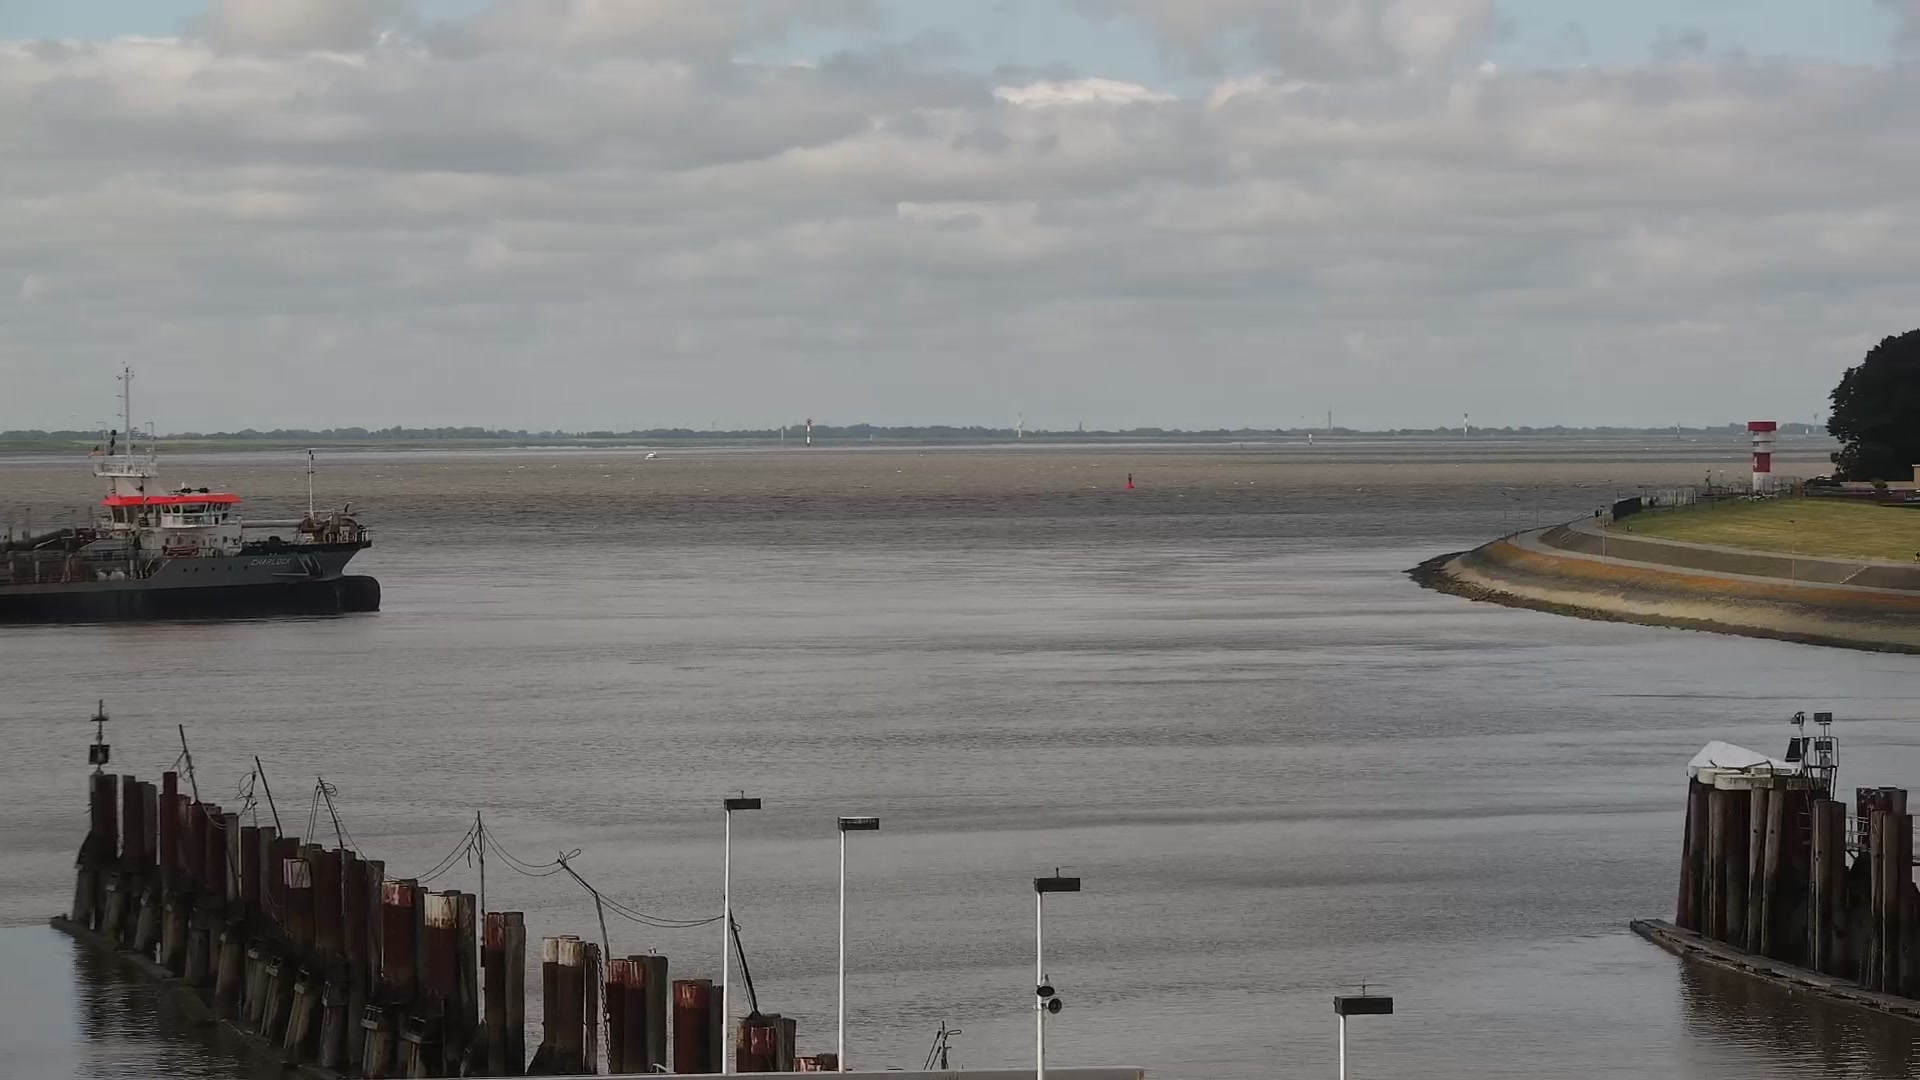human: (1915, 549, 1920, 562), (1627, 525, 1632, 534), (1595, 508, 1599, 517)
sea: (1, 362, 380, 624), (644, 451, 657, 459)
